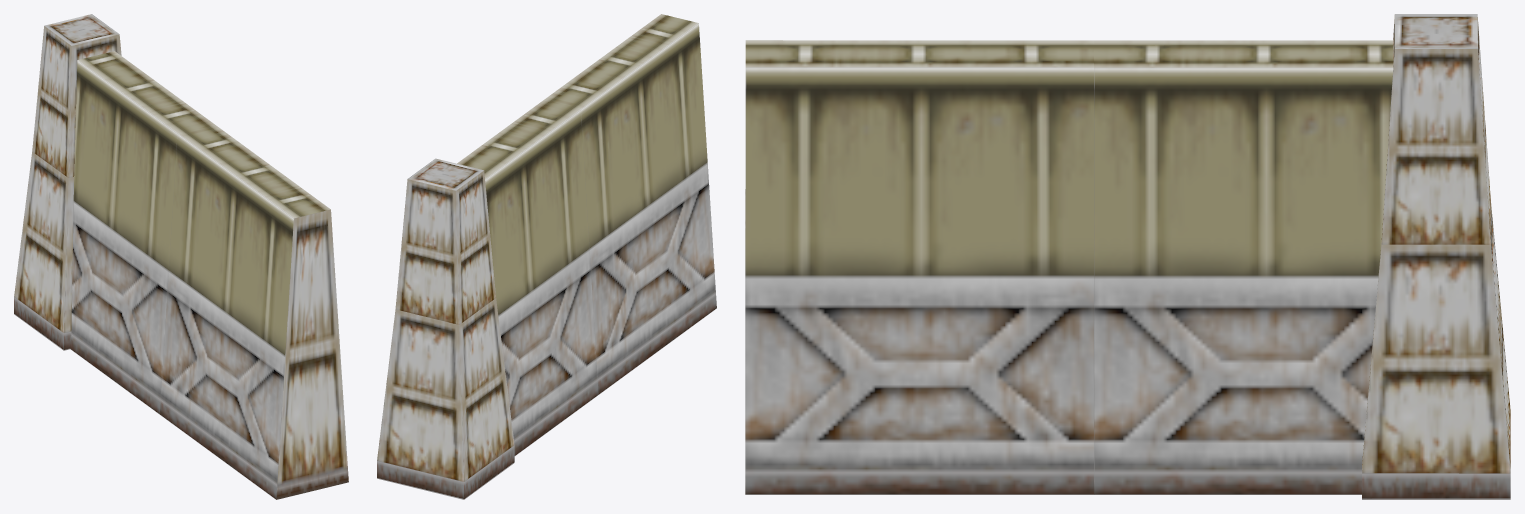
The model's file is d_heavywall.glb.
3 views of the same model, side by side, from view 1: azimuth 30°, elevation 25°; view 2: azimuth 150°, elevation 25°; view 3: azimuth 270°, elevation 25° (orthographic). The views are drawn at different scales.
Parts seen in each view (by area): view 1: D_HeavyWall; view 2: D_HeavyWall; view 3: D_HeavyWall.
Boxes of the visible parts, x1,y1,x2,y2 form: D_HeavyWall: (14,14,348,499); D_HeavyWall: (377,14,716,499); D_HeavyWall: (745,14,1510,499).
Size of the model in its own units: 5.5 by 17.86 by 28.34.
Materials: 1 (1 with a texture image).
